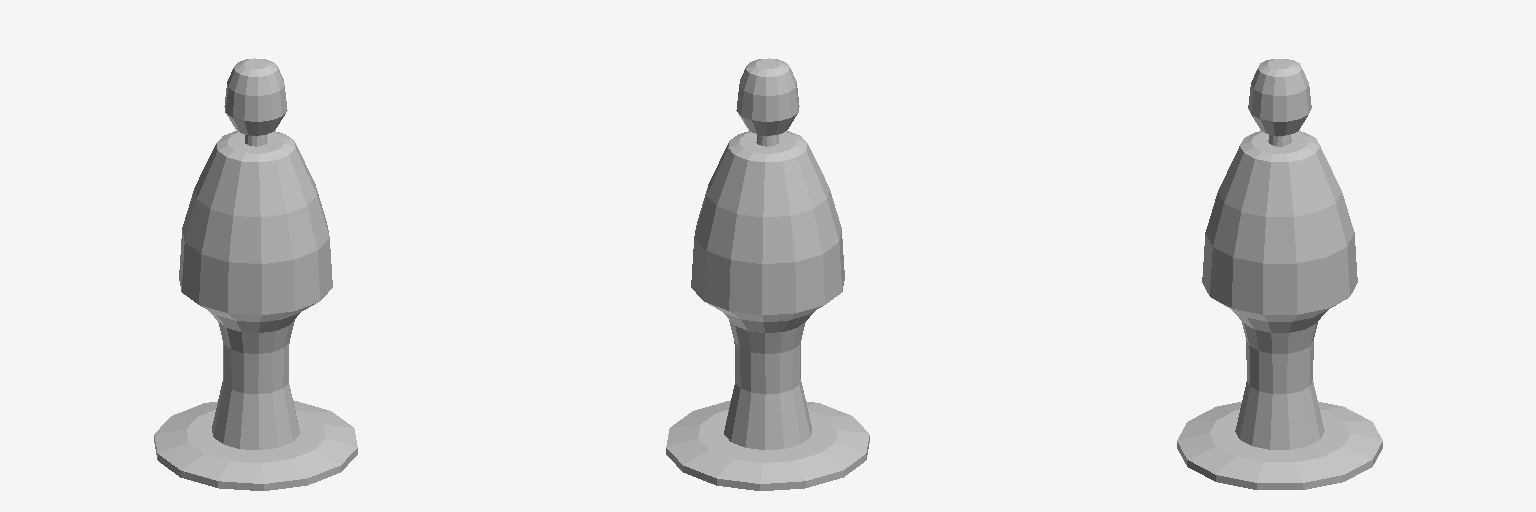
The model's file is human-tall_002.obj.
3 renders of one model, left to right at view 1: azimuth 30°, elevation 25°; view 2: azimuth 150°, elevation 25°; view 3: azimuth 270°, elevation 25°, orthographic.
Visible parts, largest first — view 1: human-tall.002; view 2: human-tall.002; view 3: human-tall.002.
Part boxes in pixels (x1,y1,x2,y2): human-tall.002: (154, 58, 357, 490); human-tall.002: (666, 58, 869, 490); human-tall.002: (1177, 59, 1382, 489).
Bounding box in the file's own units: 0.85 × 1.79 × 0.8719.